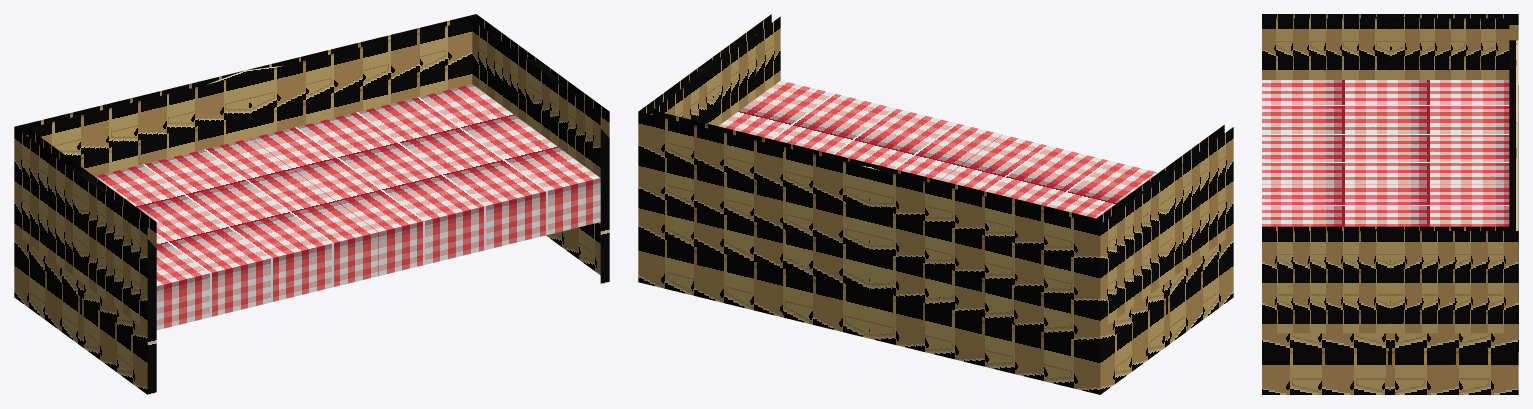
File: 3638kg_case_05.gltf
The picture shows the model from 3 angles, left to right: view 1: azimuth 30°, elevation 25°; view 2: azimuth 150°, elevation 25°; view 3: azimuth 270°, elevation 25°; orthographic projection. The views are drawn at different scales.
Parts seen in each view (by area): view 1: 3638kg_case_05; view 2: 3638kg_case_05; view 3: 3638kg_case_05.
Part boxes in pixels (x1,y1,x2,y2): 3638kg_case_05: [14, 14, 609, 394]; 3638kg_case_05: [638, 14, 1233, 394]; 3638kg_case_05: [1262, 14, 1518, 394].
Size of the model in its own units: 2 by 0.7056 by 1.
3 materials, 3 textured.
